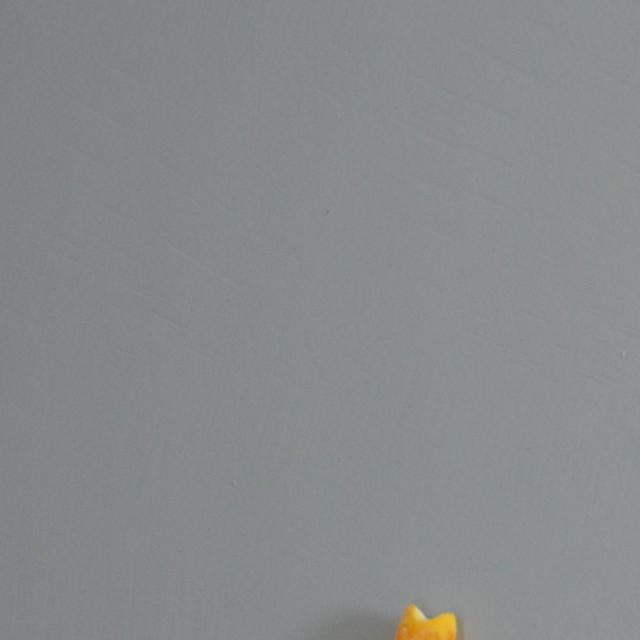pelicula: (374, 587, 478, 640)
